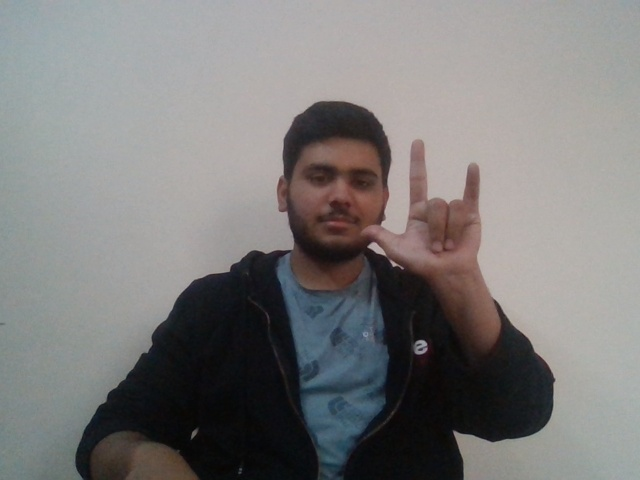IloveYou: (372, 140, 508, 266)
